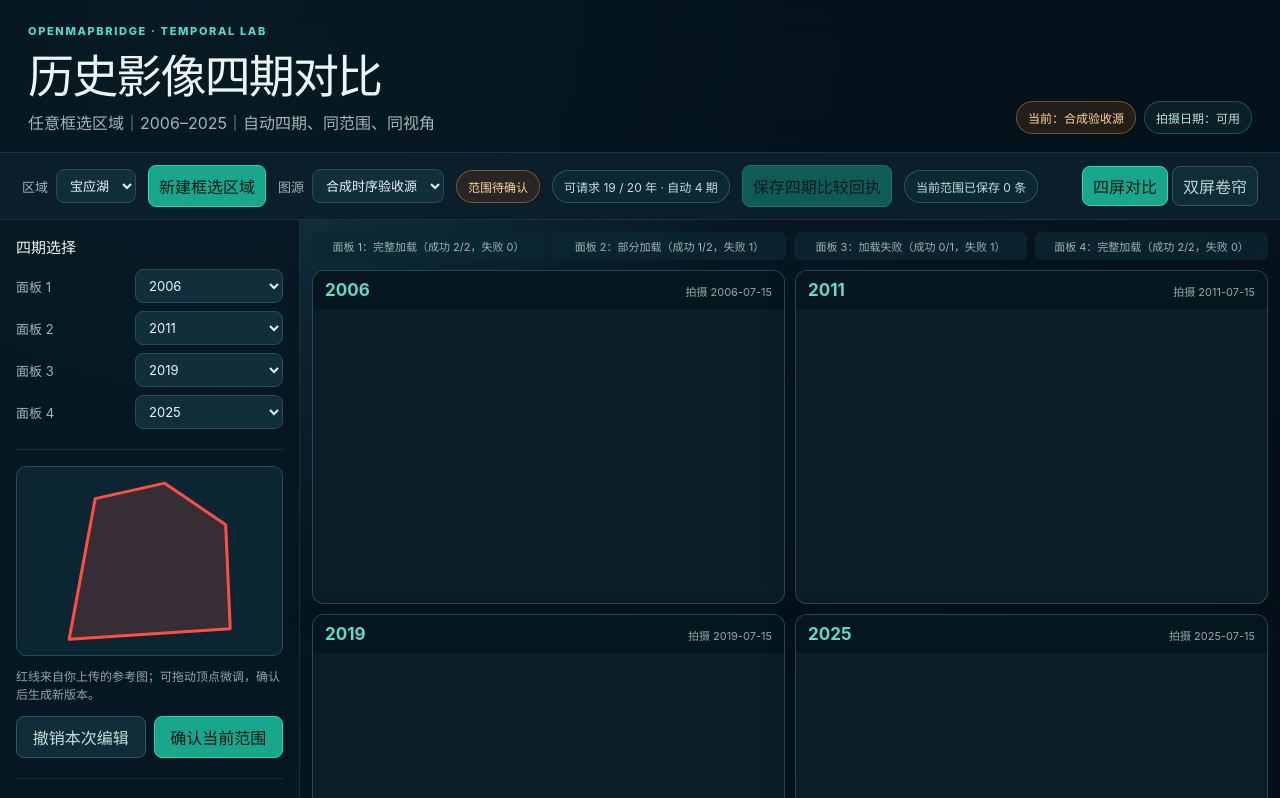
Test: HistoryWorkspace › persists terminal frame counts and exposes the receipt after save
Check: the button "保存四期比较回执" is disabled, box [742, 165, 892, 207]
Step 1. Click the button "确认当前范围" → x=218, y=737, box [154, 716, 283, 758]
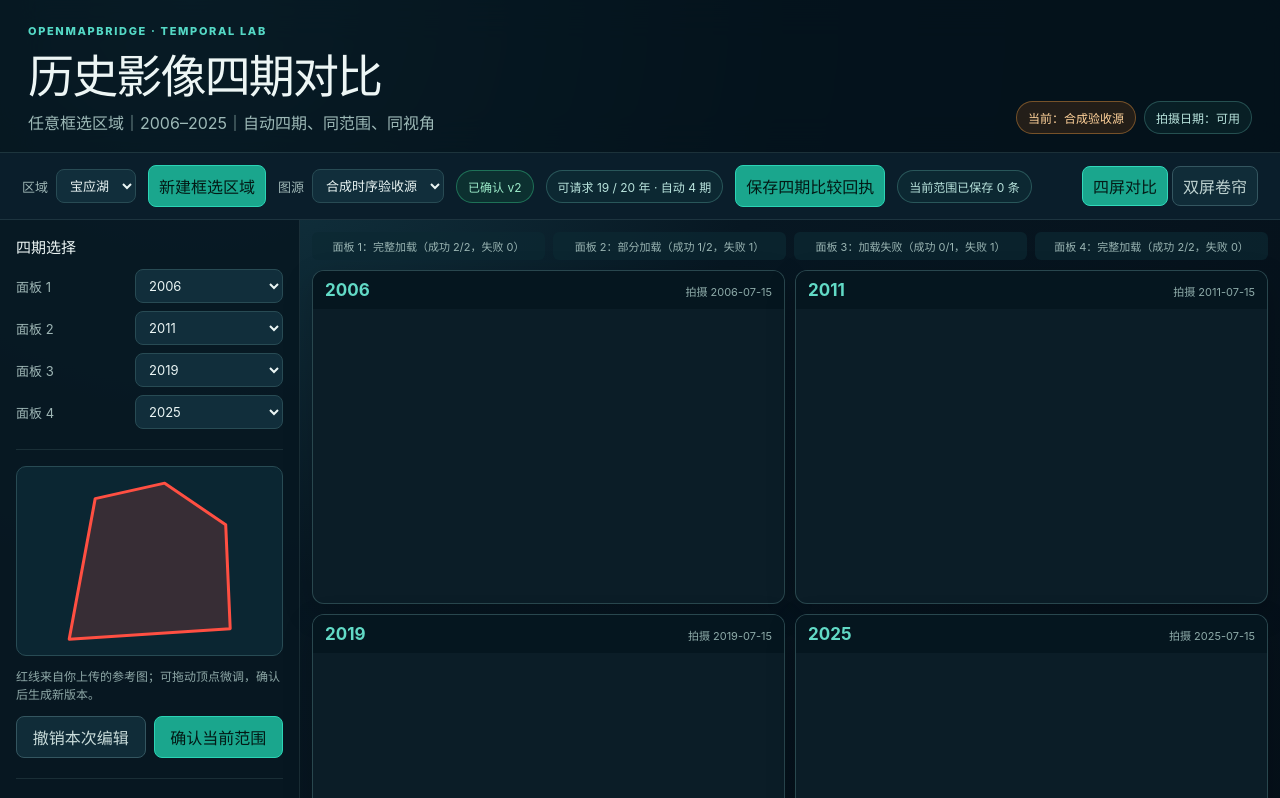
Check: the button "保存四期比较回执" is enabled
Step 2. Click the button "保存四期比较回执" → x=810, y=186, box [735, 165, 885, 207]
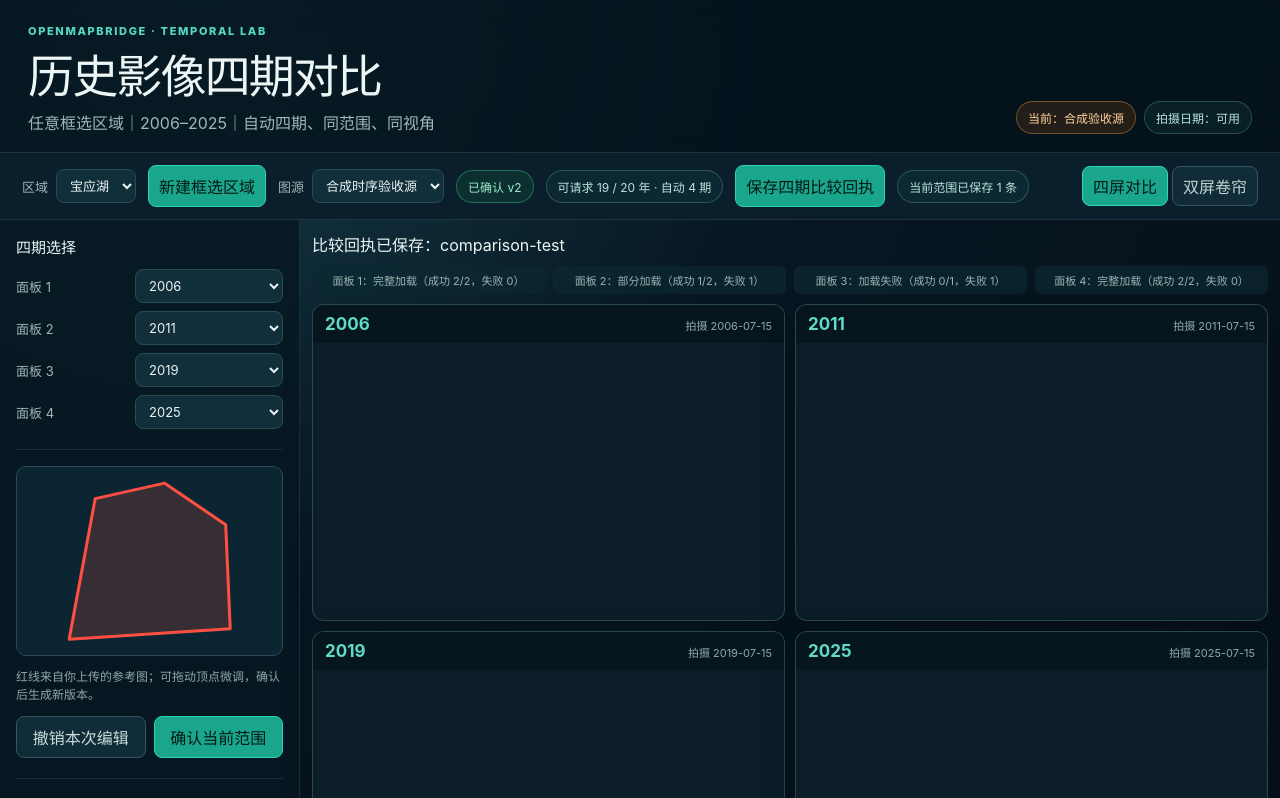
Check: the message shows "comparison-test", box [312, 235, 565, 255]
Check: the text "当前范围已保存 1 条" is shown, box [897, 170, 1029, 202]
